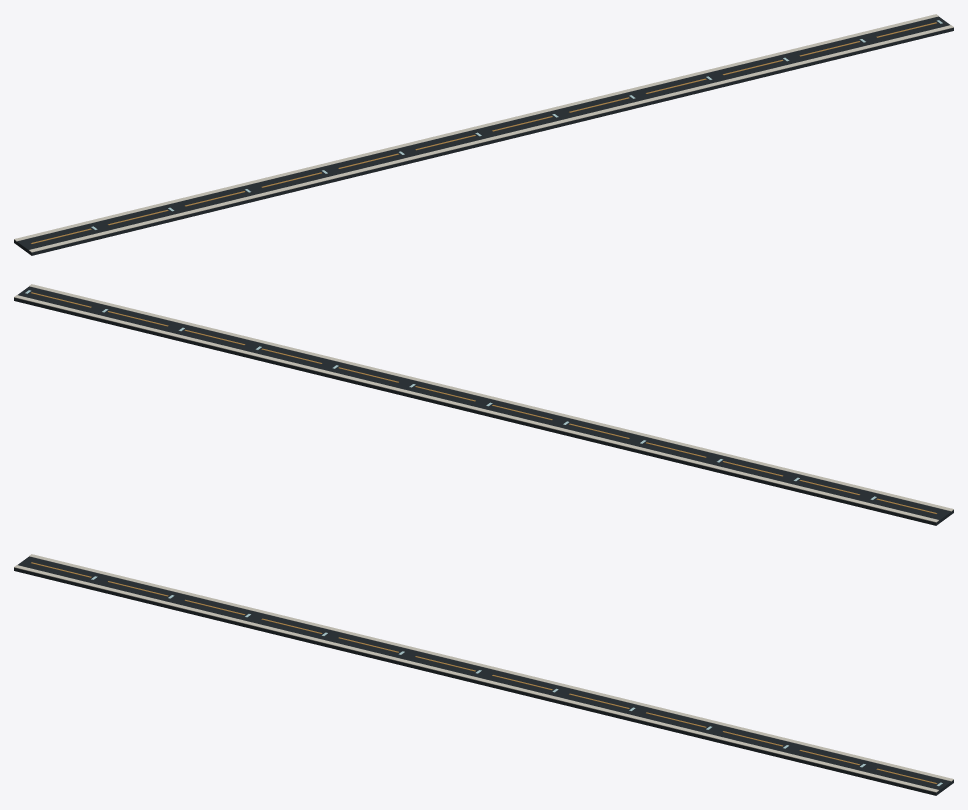
File: SM_Aurelion_KIT_RefugeThreshold_6m.fbx
The picture shows the model from 3 angles, top to bottom: view 1: azimuth 30°, elevation 25°; view 2: azimuth 150°, elevation 25°; view 3: azimuth 330°, elevation 25°; orthographic projection.
Visible parts, largest first — view 1: SM_Aurelion_KIT_RefugeThreshold_6m; view 2: SM_Aurelion_KIT_RefugeThreshold_6m; view 3: SM_Aurelion_KIT_RefugeThreshold_6m.
Part boxes in pixels (<box>): SM_Aurelion_KIT_RefugeThreshold_6m: <box>14,14,953,255</box>; SM_Aurelion_KIT_RefugeThreshold_6m: <box>14,284,953,525</box>; SM_Aurelion_KIT_RefugeThreshold_6m: <box>14,554,953,795</box>.
Bounding box in the file's own units: 600 × 20 × 2.5.
